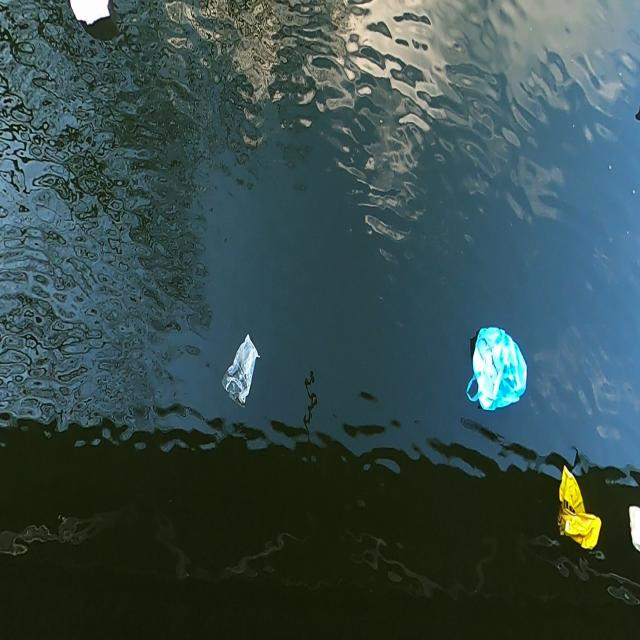Sac plastique: (461, 318, 533, 419), (551, 463, 608, 560), (218, 330, 267, 420)
